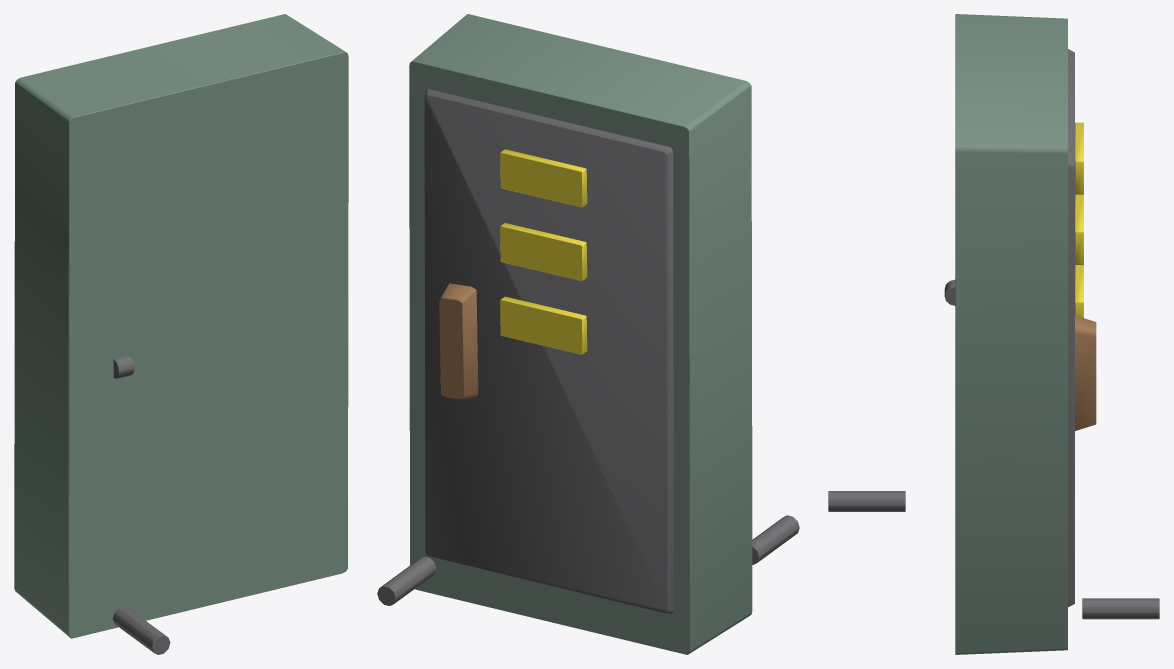
Rendered from LV_breaker_cabinet.fbx.
3 views of the same model, side by side, from view 1: azimuth 30°, elevation 25°; view 2: azimuth 150°, elevation 25°; view 3: azimuth 270°, elevation 25° (orthographic). The views are drawn at different scales.
Parts seen in each view (by area): view 1: LV_breaker_cabinet; view 2: LV_breaker_cabinet; view 3: LV_breaker_cabinet.
Boxes of the visible parts, box(x1,y1,x2,y2) form: LV_breaker_cabinet: box(14, 14, 348, 654); LV_breaker_cabinet: box(377, 14, 799, 654); LV_breaker_cabinet: box(828, 14, 1159, 654).
Size of the model in its own units: 0.8999 by 1.6 by 0.94.
